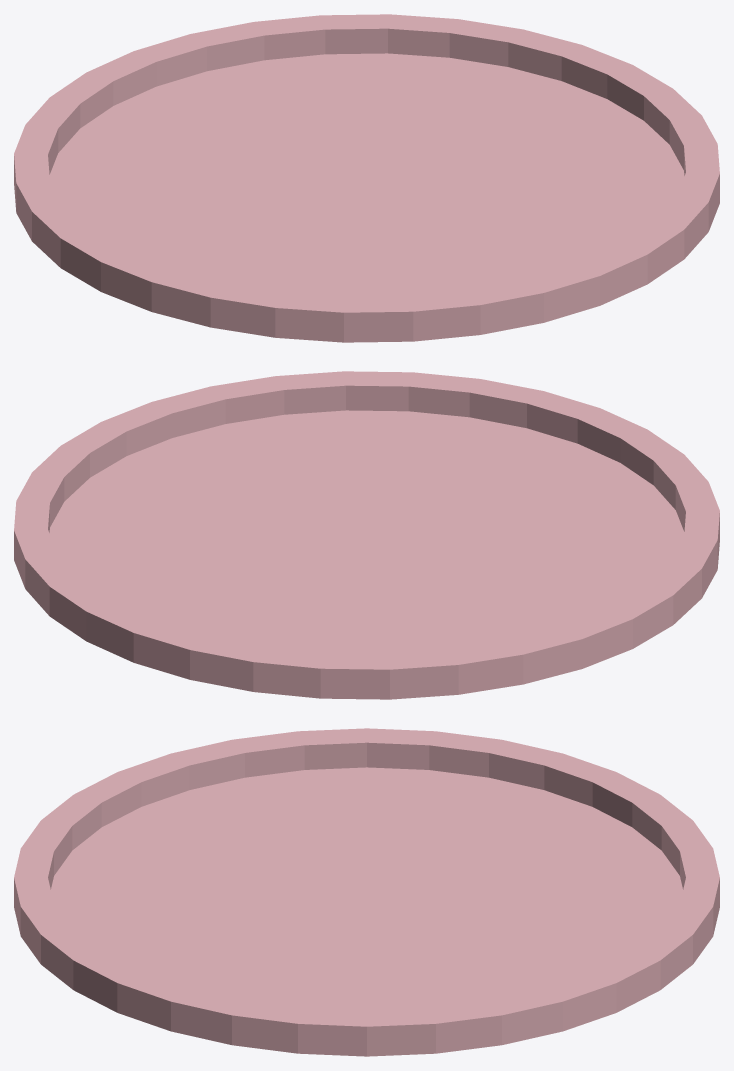
Rendered from Plate.fbx.
3 renders of one model, top to bottom at view 1: azimuth 30°, elevation 25°; view 2: azimuth 150°, elevation 25°; view 3: azimuth 270°, elevation 25°, orthographic.
Parts seen in each view (by area): view 1: Cylinder.002; view 2: Cylinder.002; view 3: Cylinder.002.
Boxes of the visible parts, x1=… form: Cylinder.002: x1=14, y1=14, x2=719, y2=342; Cylinder.002: x1=14, y1=371, x2=719, y2=699; Cylinder.002: x1=14, y1=728, x2=719, y2=1056.
Bounding box in the file's own units: 22.48 × 1.05 × 22.48.
